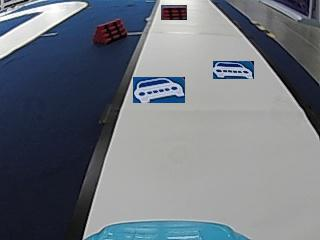bomb: (93, 16, 126, 44)
